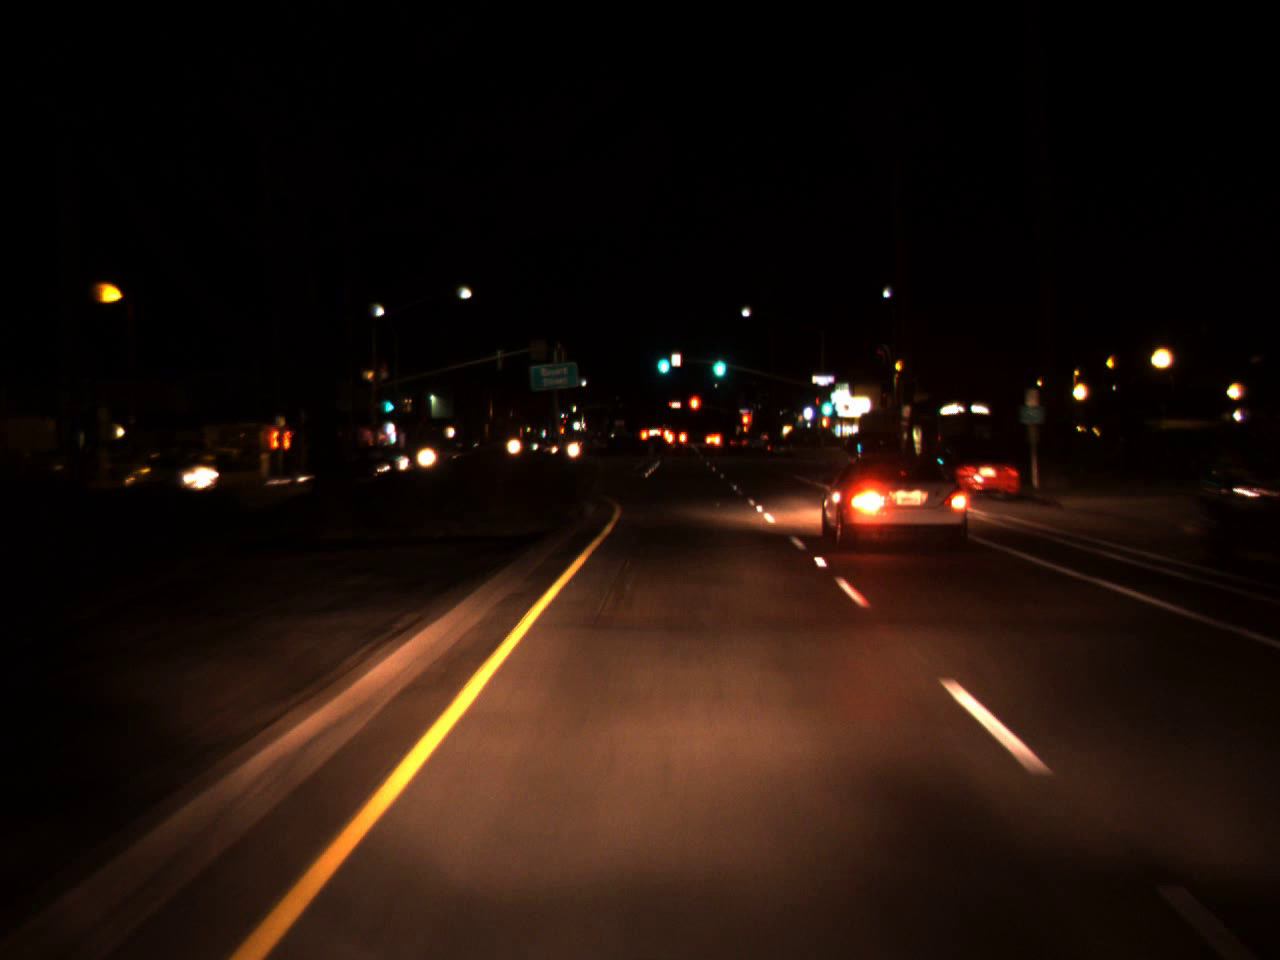go: (708, 341, 727, 383), (652, 342, 671, 378), (818, 388, 836, 418), (383, 391, 392, 415)
stop: (687, 394, 700, 426), (741, 411, 751, 438)
